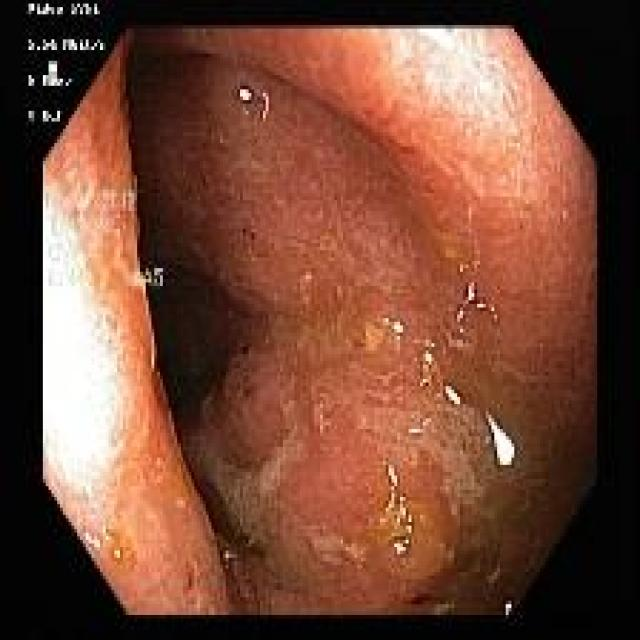ulcerative-colitis: (44, 28, 596, 615)
